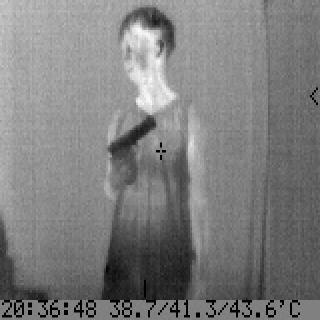Gun: (104, 112, 158, 188)
